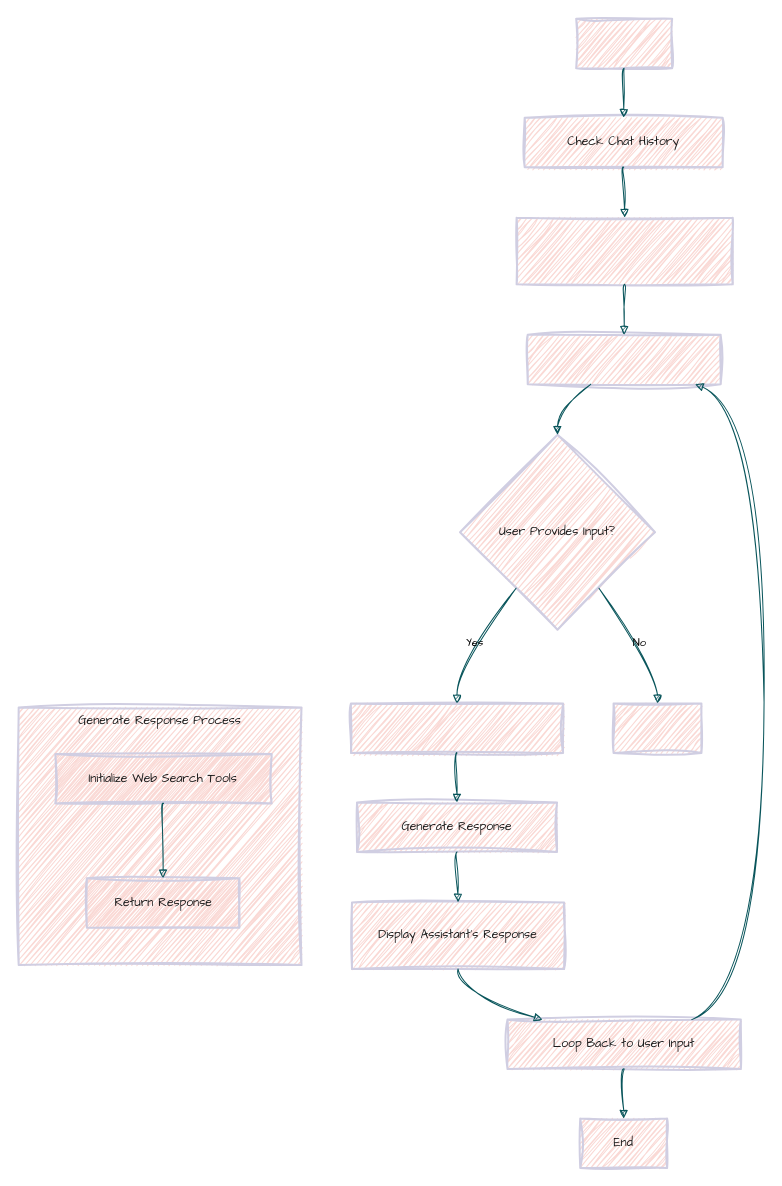
The diagram is 782 pixels wide and 1186 high, and some of its shapes have lost their labels. Here are the shapes that lost their labels. From the top down, the box of each, then its label:
(575, 17, 673, 69): Start
(515, 216, 733, 285): Display Previous Chat Messages
(526, 333, 721, 385): Prompt User Input
(349, 702, 564, 753): Display User Message
(612, 702, 702, 753): Idle
